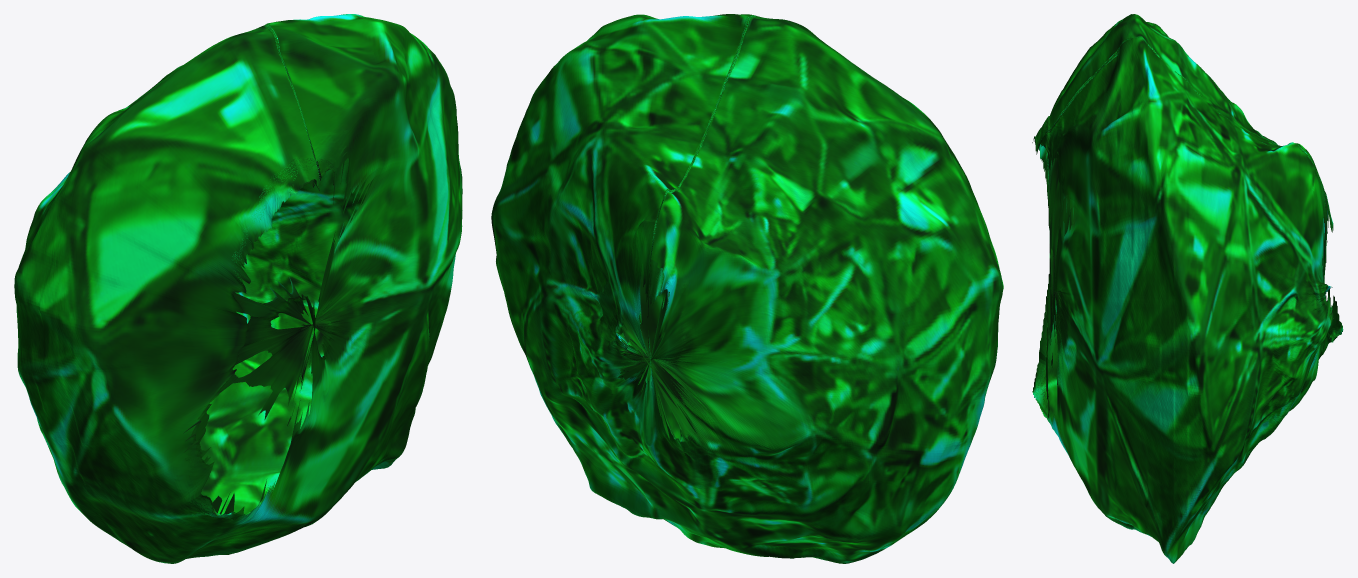
3 renders of one model, left to right at view 1: azimuth 30°, elevation 25°; view 2: azimuth 150°, elevation 25°; view 3: azimuth 270°, elevation 25°, orthographic. The views are drawn at different scales.
Visible parts, largest first — view 1: geometry_0; view 2: geometry_0; view 3: geometry_0.
Part boxes in pixels (<box>): geometry_0: <box>14,14,462,563</box>; geometry_0: <box>491,14,1003,563</box>; geometry_0: <box>1032,14,1343,563</box>.
Size of the model in its own units: 1.75 by 1.82 by 1.05.
1 material, 1 textured.
